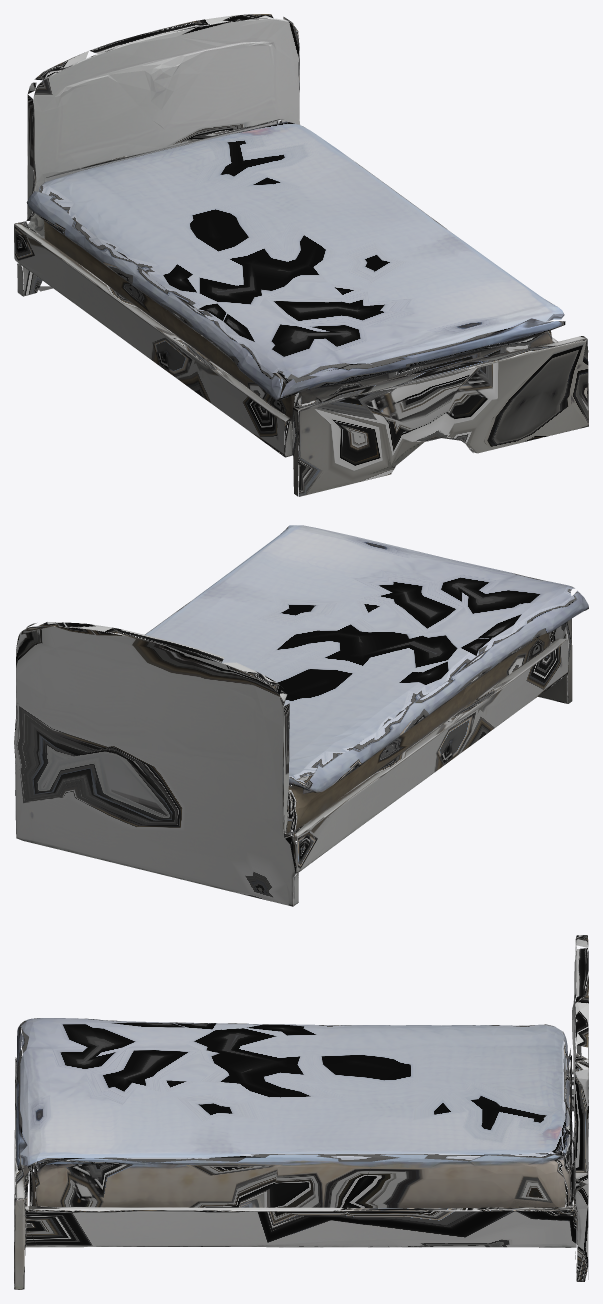
The model's file is room_scan_70630b05-6ef2-4b5a-8741-54d20a5d9365_scene_bed_001_bed_frame_0002_bbox_680_451_2081_1749_textured_yolo_12k_v1.glb.
The picture shows the model from 3 angles, top to bottom: view 1: azimuth 30°, elevation 25°; view 2: azimuth 150°, elevation 25°; view 3: azimuth 270°, elevation 25°; orthographic projection. The views are drawn at different scales.
Visible parts, largest first — view 1: world; view 2: world; view 3: world.
Boxes of the visible parts, x1=… form: world: x1=14, y1=14, x2=588, y2=496; world: x1=14, y1=525, x2=588, y2=906; world: x1=14, y1=935, x2=588, y2=1289.
Bounding box in the file's own units: 0.6365 × 0.4494 × 0.9945.
Materials: 1 (1 with a texture image).
